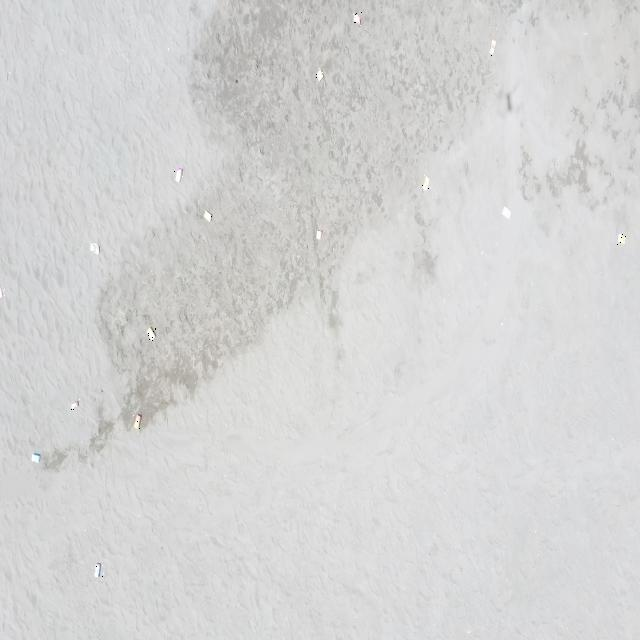Garbage: (132, 413, 140, 428), (88, 241, 98, 253), (500, 206, 510, 218), (173, 167, 181, 181), (420, 176, 428, 190), (488, 40, 495, 55), (352, 12, 360, 24), (31, 452, 40, 462), (203, 209, 211, 220), (316, 68, 323, 80), (148, 327, 154, 340), (94, 563, 100, 576), (616, 232, 623, 243), (507, 92, 511, 110), (316, 228, 322, 240), (70, 400, 77, 409), (0, 288, 3, 298)
